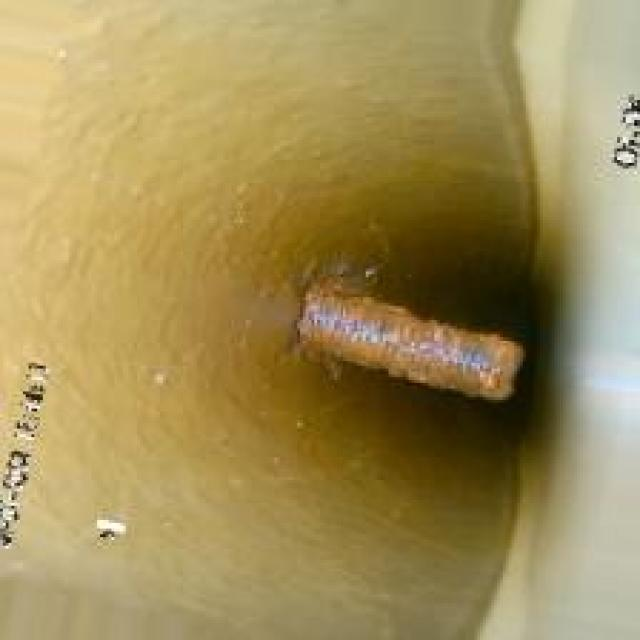ferrule: (286, 271, 528, 400)
